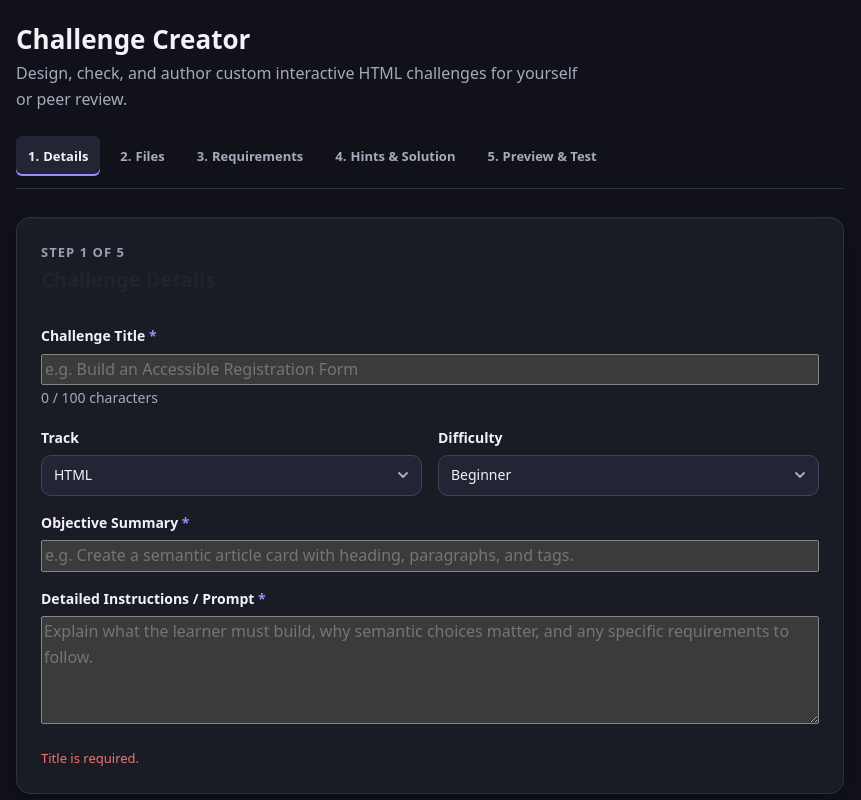
Test case: Stage 18b - Challenge Creator & Reducer Tests › ChallengeCreator Component UI & Multi-Step Wizard › renders stepper navigation and validates Details before proceeding
This screenshot has width=861, height=800.
Expected: the heading "Challenge Creator" is shown, [16,21,250,57]
Expected: the text "Step 1 of 5" is shown, [41,243,125,261]
# Fill in details
Type "My Accessible Header" into the field labelled "Challenge Title *" at point(430, 369), box [41,354,819,385]
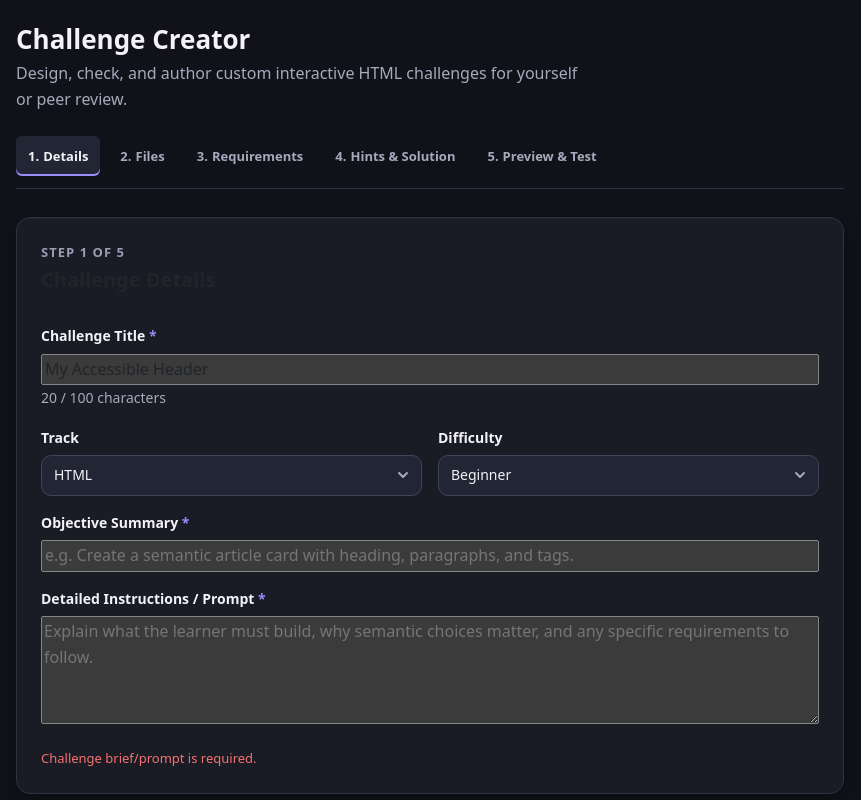
Replace the text in the field labelled "Objective Summary *" with "Practice header structure." at point(430, 556), box [41,540,819,572]
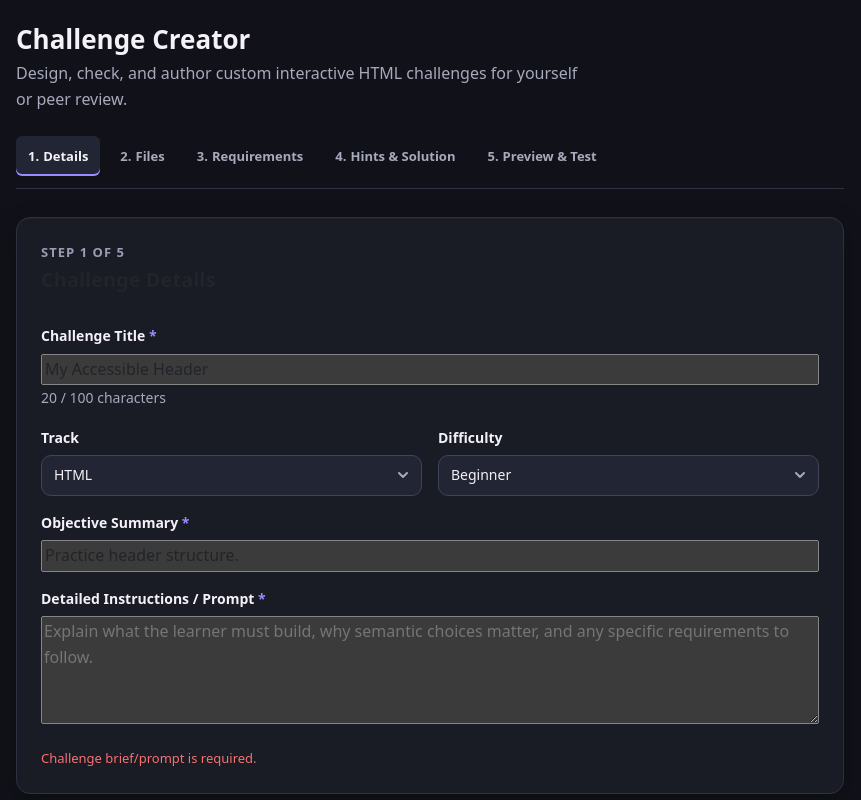
Replace the text in the text box labelled "Detailed Instructions / Prompt *" with "Write an accessible header tag." at point(430, 670), box [41,616,819,724]
(page scrolled)
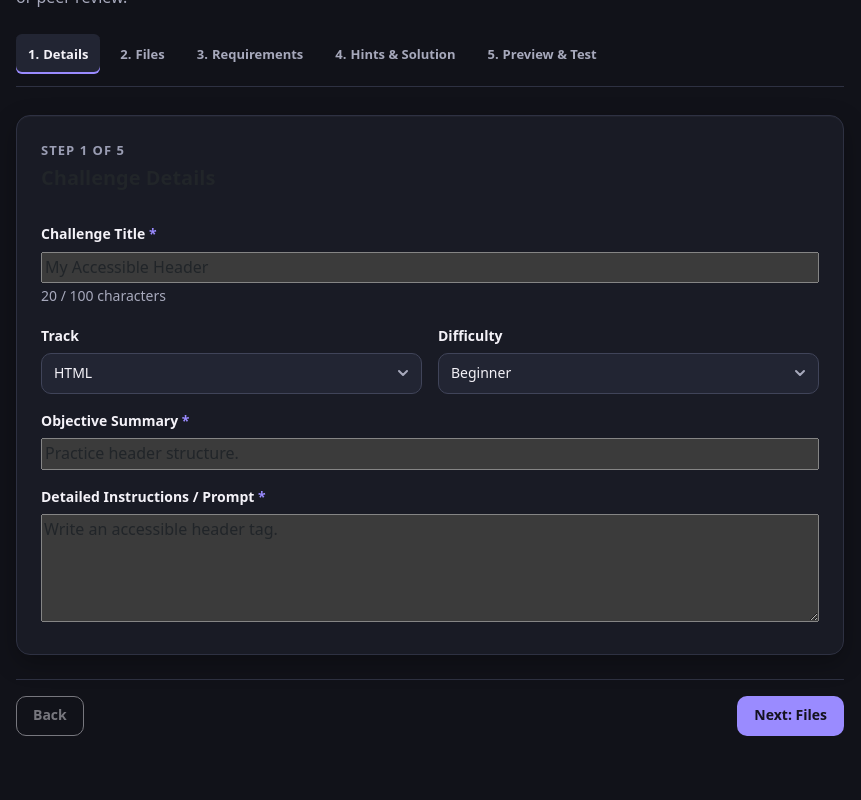
Now the button "Next: Files" is enabled
Click the button "Next: Files" at point(791, 716), box [737,696,844,736]
(page scrolled)
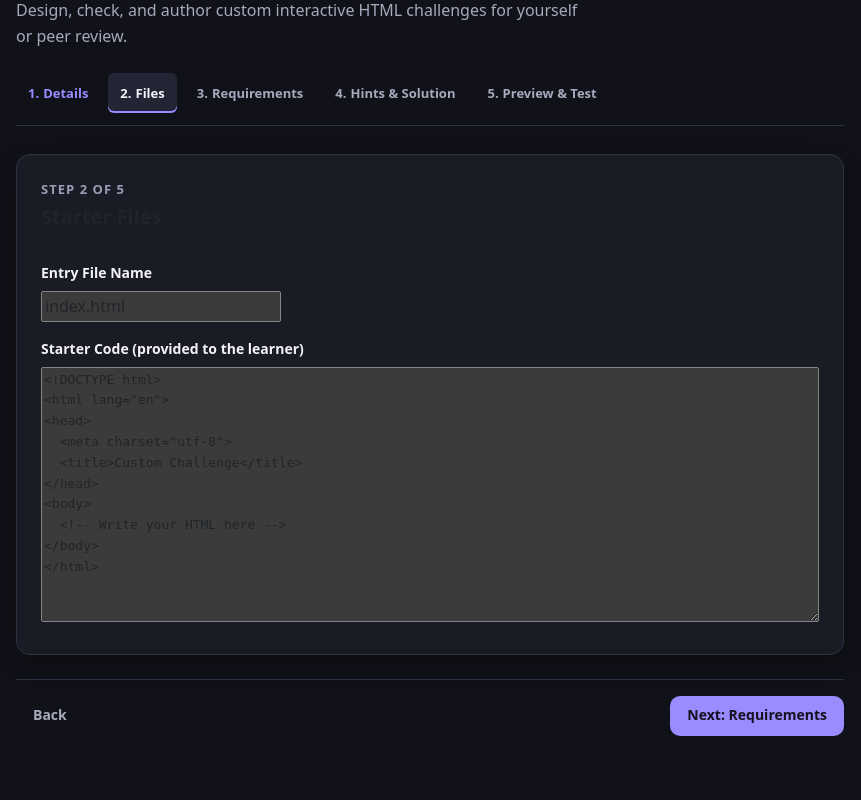
Now the text "Step 2 of 5" is shown, box [41,180,125,198]
